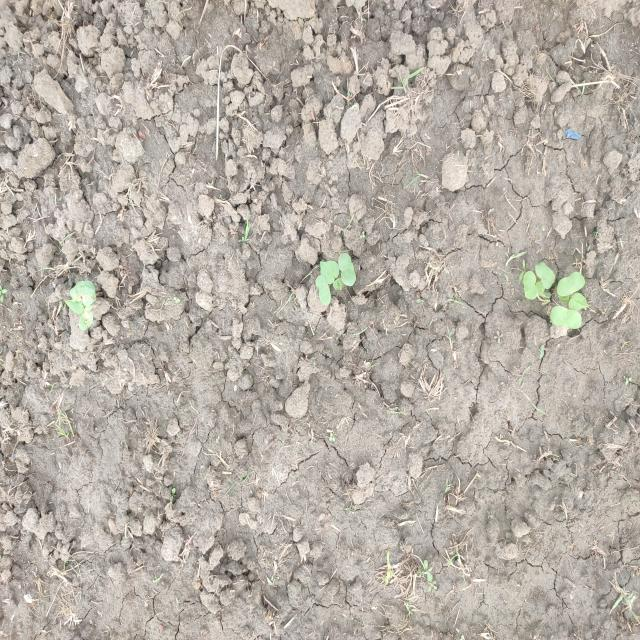seedling_s4: (550, 306, 582, 329), (557, 271, 585, 296), (338, 253, 356, 286), (535, 262, 555, 289), (70, 286, 96, 306), (320, 260, 340, 284), (315, 275, 331, 305), (523, 271, 538, 300), (568, 293, 590, 311), (79, 305, 93, 331), (64, 299, 84, 314), (75, 280, 96, 292), (535, 281, 545, 295), (333, 278, 343, 290)
